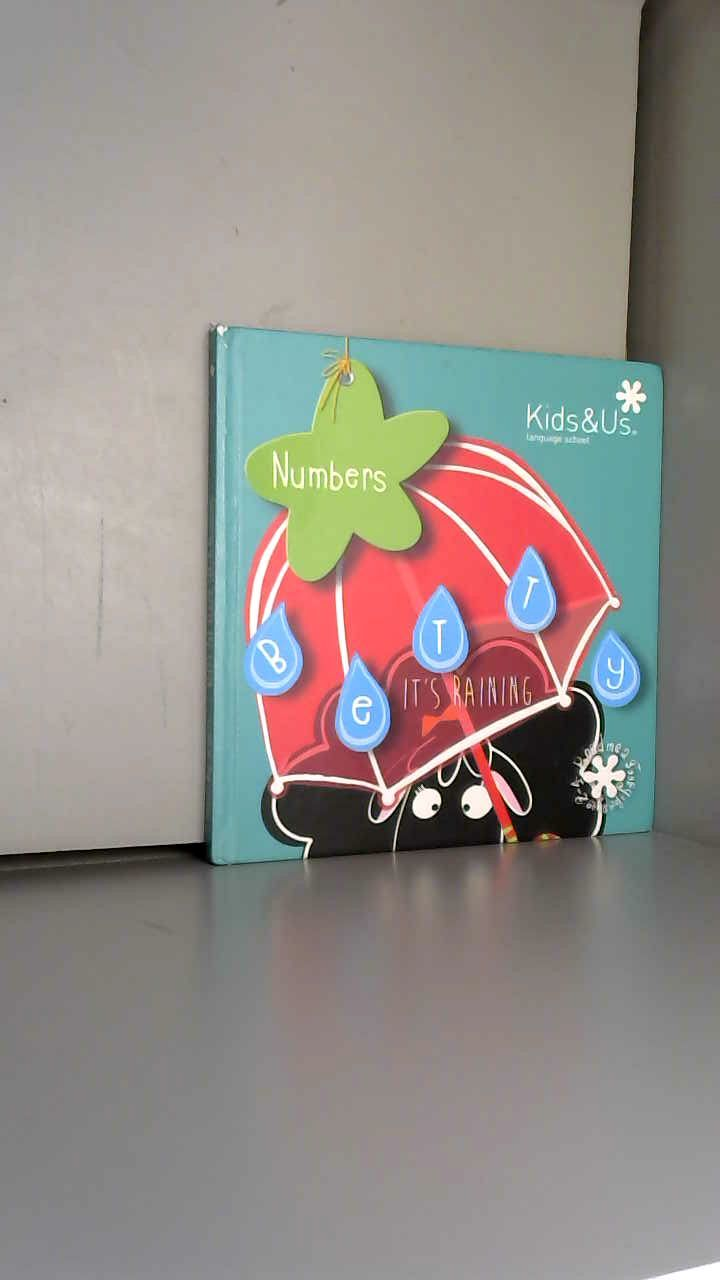book: (180, 300, 720, 892)
